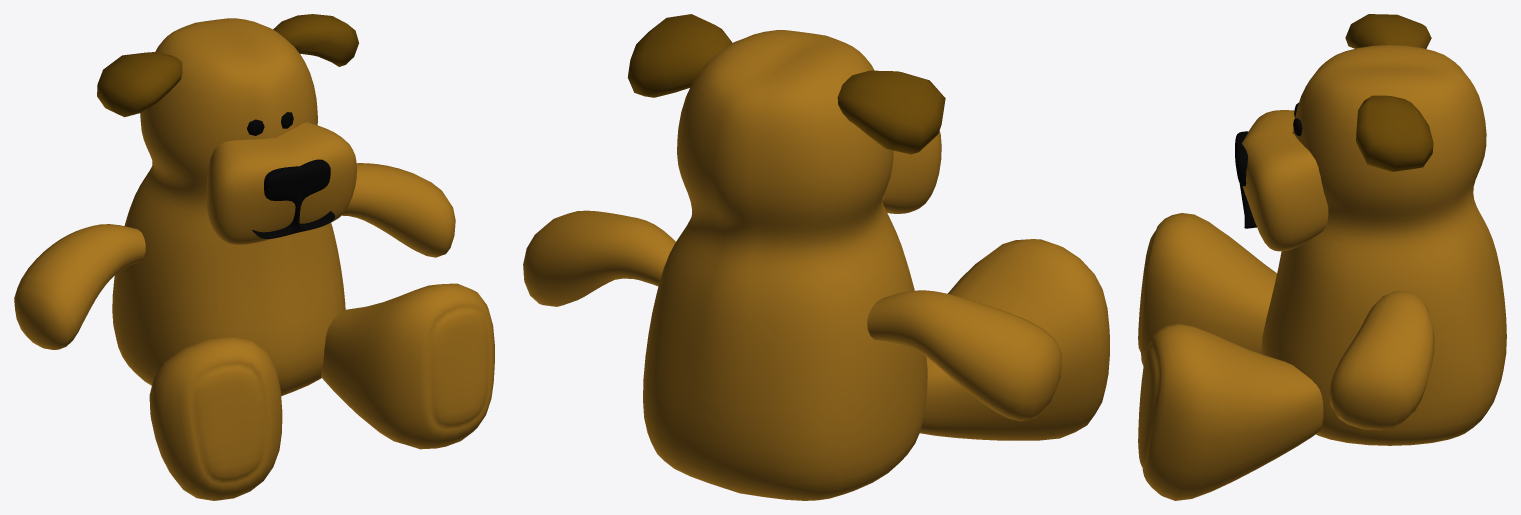
The model's file is Teddy.fbx.
The picture shows the model from 3 angles, left to right: view 1: azimuth 30°, elevation 25°; view 2: azimuth 150°, elevation 25°; view 3: azimuth 270°, elevation 25°; orthographic projection. The views are drawn at different scales.
Parts seen in each view (by area): view 1: Cube, Cube.003, Cube.006, Cube.002; view 2: Cube, Cube.003, Cube.002; view 3: Cube, Cube.002, Cube.003, Cube.006.
Boxes of the visible parts, box(x1,y1,x2,y2) form: Cube: box(14, 18, 494, 500); Cube.003: box(97, 52, 182, 117); Cube.006: box(252, 159, 335, 238); Cube.002: box(273, 14, 358, 66); Cube: box(523, 30, 1109, 500); Cube.003: box(837, 70, 945, 154); Cube.002: box(627, 14, 732, 97); Cube: box(1138, 45, 1506, 500); Cube.002: box(1356, 95, 1433, 171); Cube.003: box(1345, 14, 1431, 48); Cube.006: box(1235, 131, 1256, 228).
Size of the model in its own units: 256 by 209 by 184.
